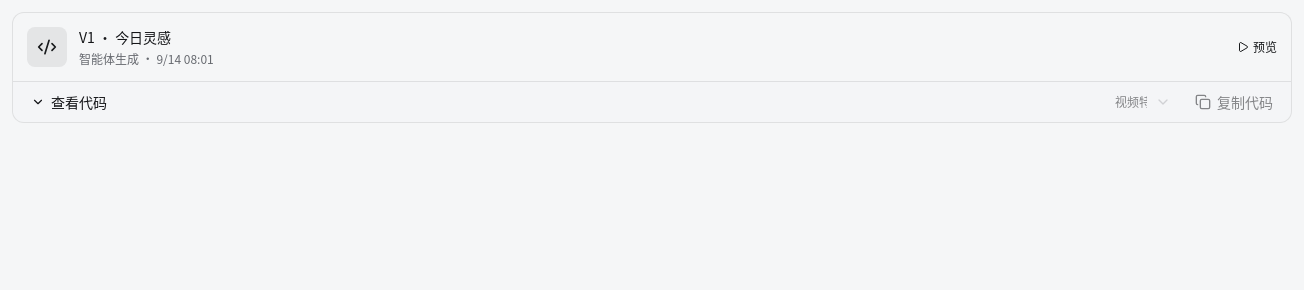
版本卡片在禁用状态不请求诊断
Click the button with aria-label "展开 V1 代码".
click(69, 102)  # box [21,86,117,118]
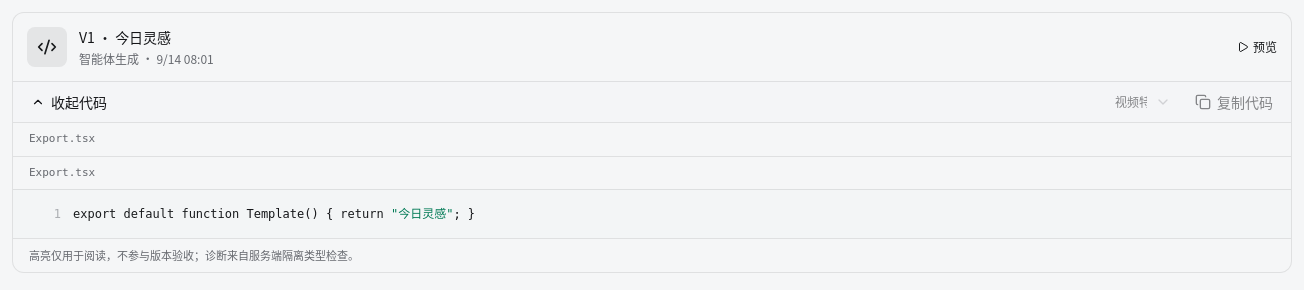
Expected: the element named "模板 TSX 代码" shows "今日灵感", [391,207,454,221]
